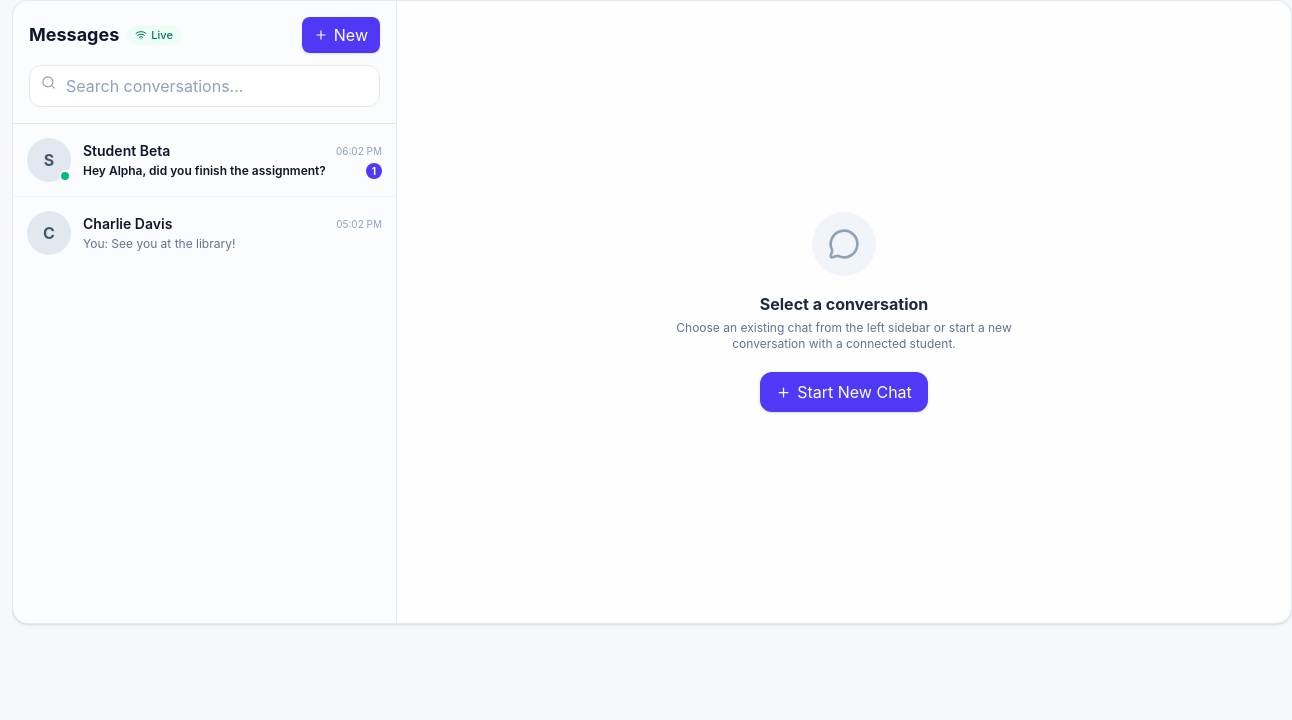
it: Messages Page › filters conversations using search query
The image size is (1292, 720).
Expected: the text "Student Beta" is shown, x1=83 y1=141 x2=170 y2=161
Expected: the text "Charlie Davis" is shown, x1=83 y1=214 x2=172 y2=234
Step 1. Type "charlie" into the field with placeholder "Search conversations..." → (204, 86), box x1=29 y1=65 x2=380 y2=107
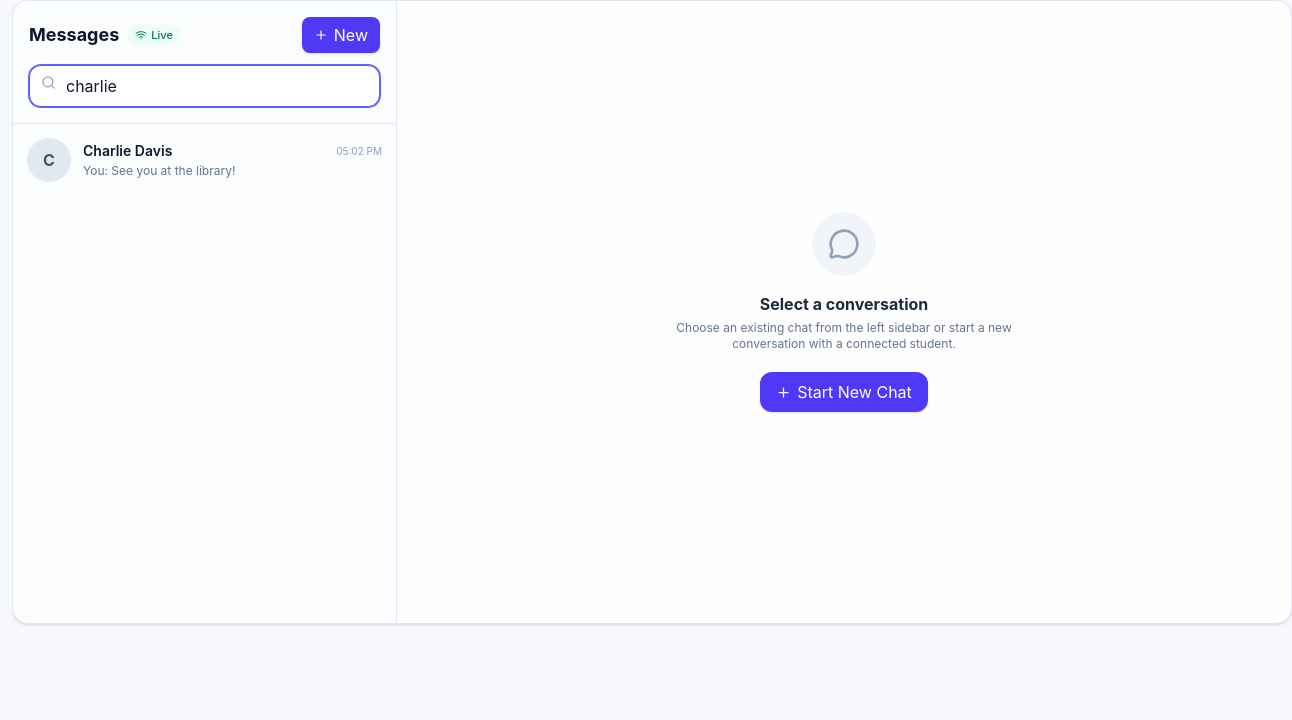
Expected: the text "Charlie Davis" is shown, x1=83 y1=141 x2=172 y2=161
Expected: the button "Student Beta" is gone
